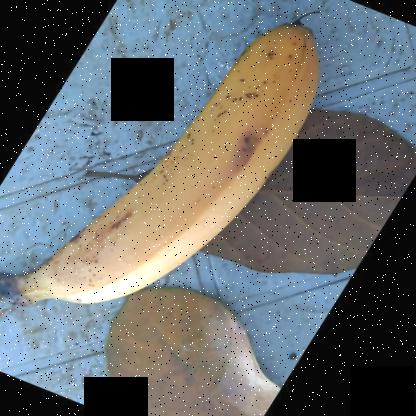ripe: (33, 10, 345, 306)
